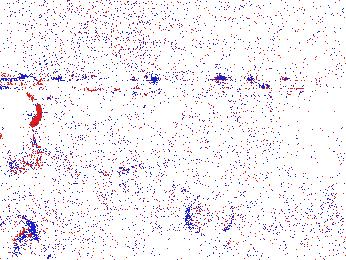flame jellyfish: (1, 85, 43, 177), (185, 191, 236, 246), (1, 215, 51, 260)
